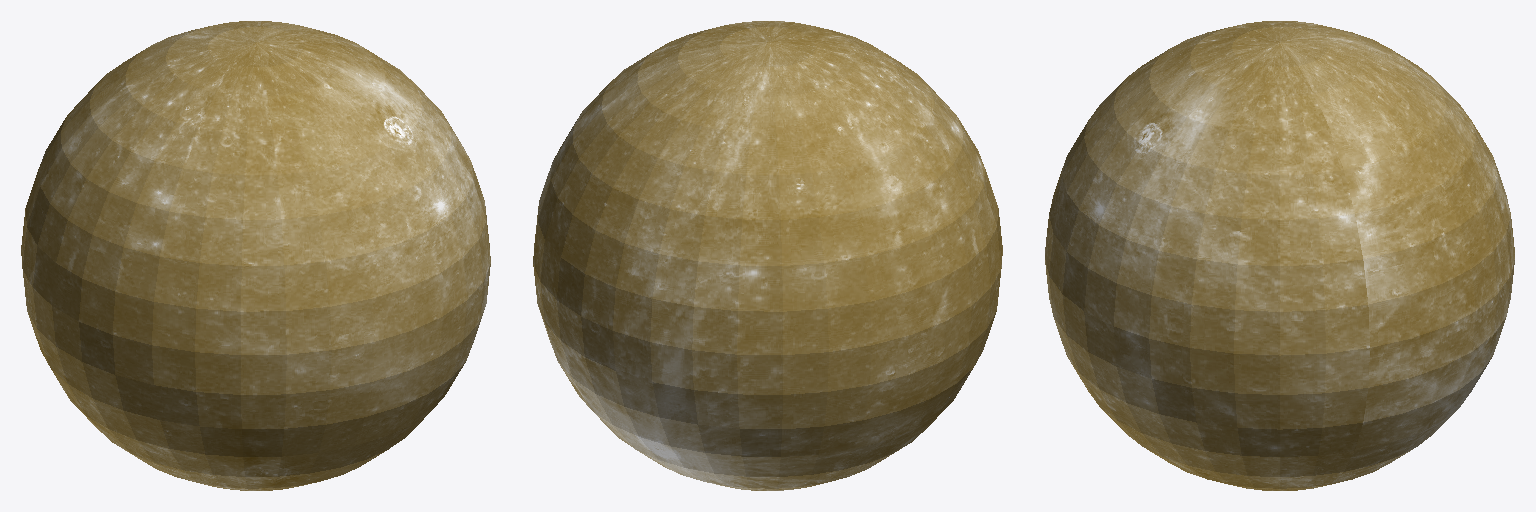
The picture shows the model from 3 angles: view 1: azimuth 30°, elevation 25°; view 2: azimuth 150°, elevation 25°; view 3: azimuth 270°, elevation 25°; orthographic projection.
Visible parts, largest first — view 1: Sphere; view 2: Sphere; view 3: Sphere.
Part boxes in pixels (x1,y1,x2,y2): Sphere: (21,21,490,490); Sphere: (533,21,1002,490); Sphere: (1045,21,1514,490).
Size of the model in its own units: 19.2 by 19.2 by 19.2.
1 materials, 1 textured.